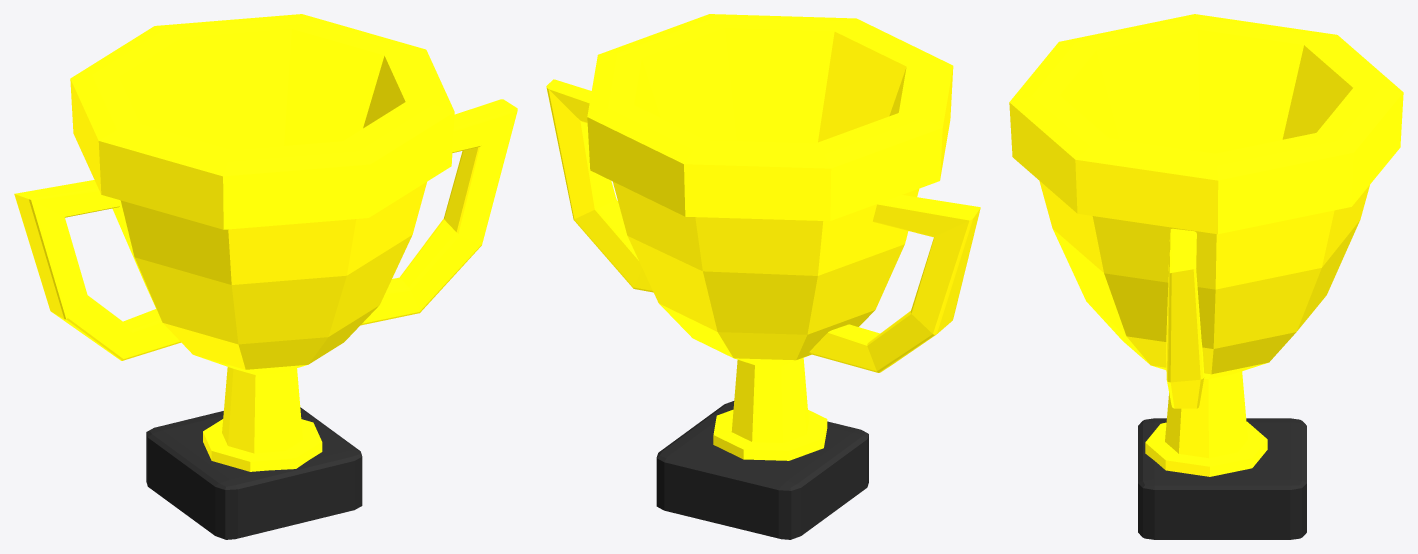
The model's file is MadeByJawns_ItchIO_GameItems_v1_0_1_Trophy.glb.
3 renders of one model, left to right at view 1: azimuth 30°, elevation 25°; view 2: azimuth 150°, elevation 25°; view 3: azimuth 270°, elevation 25°, orthographic. The views are drawn at different scales.
Visible parts, largest first — view 1: Trophy; view 2: Trophy; view 3: Trophy.
Part boxes in pixels (box(x1,y1,x2,y2)): Trophy: box(14, 14, 517, 539); Trophy: box(546, 14, 980, 539); Trophy: box(1009, 14, 1403, 539).
Bounding box in the file's own units: 6.38 × 5.42 × 4.66.
